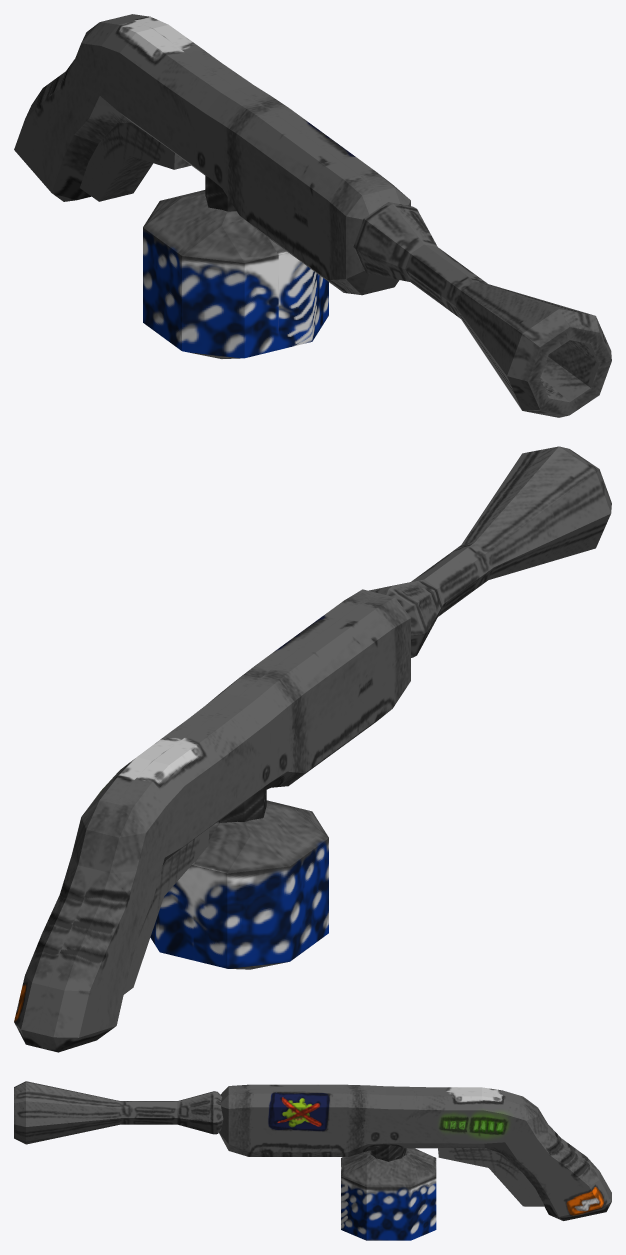
Rendered from AntibacterialWeapon.fbx.
3 views of the same model, one above another, from view 1: azimuth 30°, elevation 25°; view 2: azimuth 150°, elevation 25°; view 3: azimuth 270°, elevation 25° (orthographic). The views are drawn at different scales.
Parts seen in each view (by area): view 1: AntibacterialGun; view 2: AntibacterialGun; view 3: AntibacterialGun.
Boxes of the visible parts, bbox=[...] form: AntibacterialGun: bbox=[14, 14, 611, 417]; AntibacterialGun: bbox=[14, 446, 611, 1052]; AntibacterialGun: bbox=[14, 1081, 611, 1240].
Size of the model in its own units: 120 by 206 by 754.
1 material, 1 textured.
